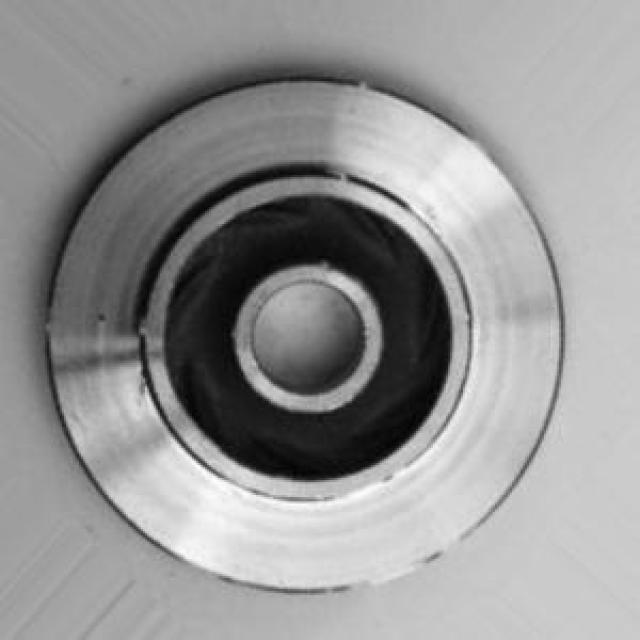Defect: (92, 300, 116, 326)
